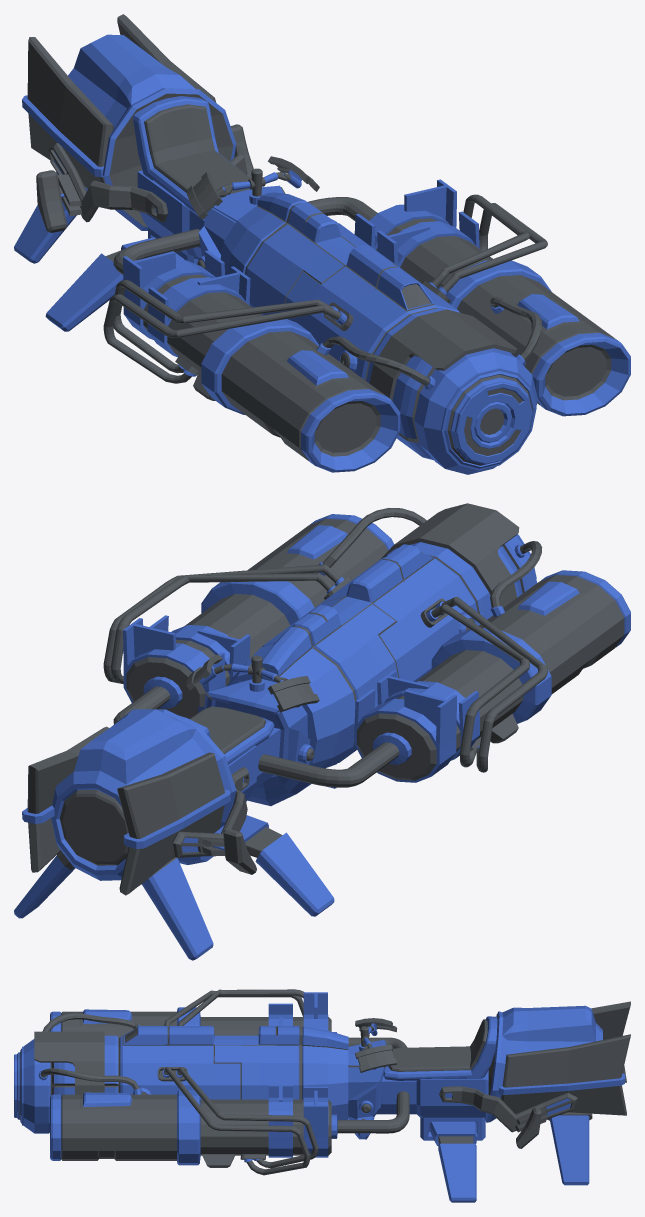
File: Personal_Vehicle_04_Blue.fbx
3 renders of one model, top to bottom at view 1: azimuth 30°, elevation 25°; view 2: azimuth 150°, elevation 25°; view 3: azimuth 270°, elevation 25°, orthographic. The views are drawn at different scales.
Parts seen in each view (by area): view 1: Personal_Vehicle_04_Blue; view 2: Personal_Vehicle_04_Blue; view 3: Personal_Vehicle_04_Blue.
Boxes of the visible parts, left/top/right/bottom form: Personal_Vehicle_04_Blue: left=14, top=14, right=630, bottom=474; Personal_Vehicle_04_Blue: left=14, top=503, right=630, bottom=960; Personal_Vehicle_04_Blue: left=14, top=989, right=630, bottom=1202.
Size of the model in its own units: 233 by 115 by 439.
Materials: 2 (2 with a texture image).
